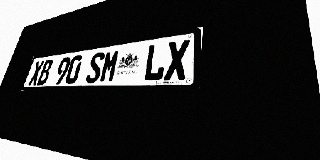0: (64, 55, 84, 84)
9: (53, 56, 72, 84)
B: (36, 59, 54, 85)
L: (143, 42, 167, 81)
M: (99, 49, 121, 83)
S: (85, 51, 106, 83)
X: (164, 39, 190, 80), (28, 60, 45, 85)
